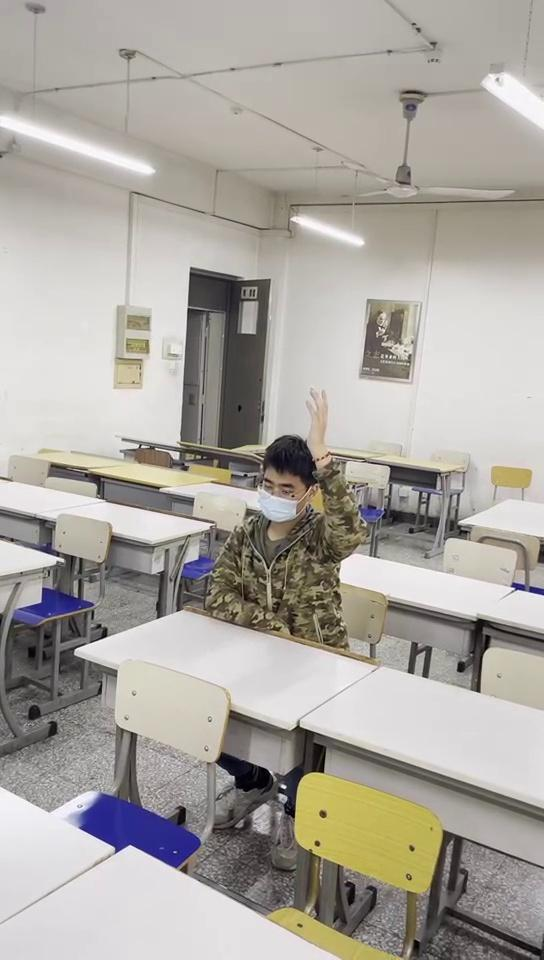study: (208, 392, 363, 642)
